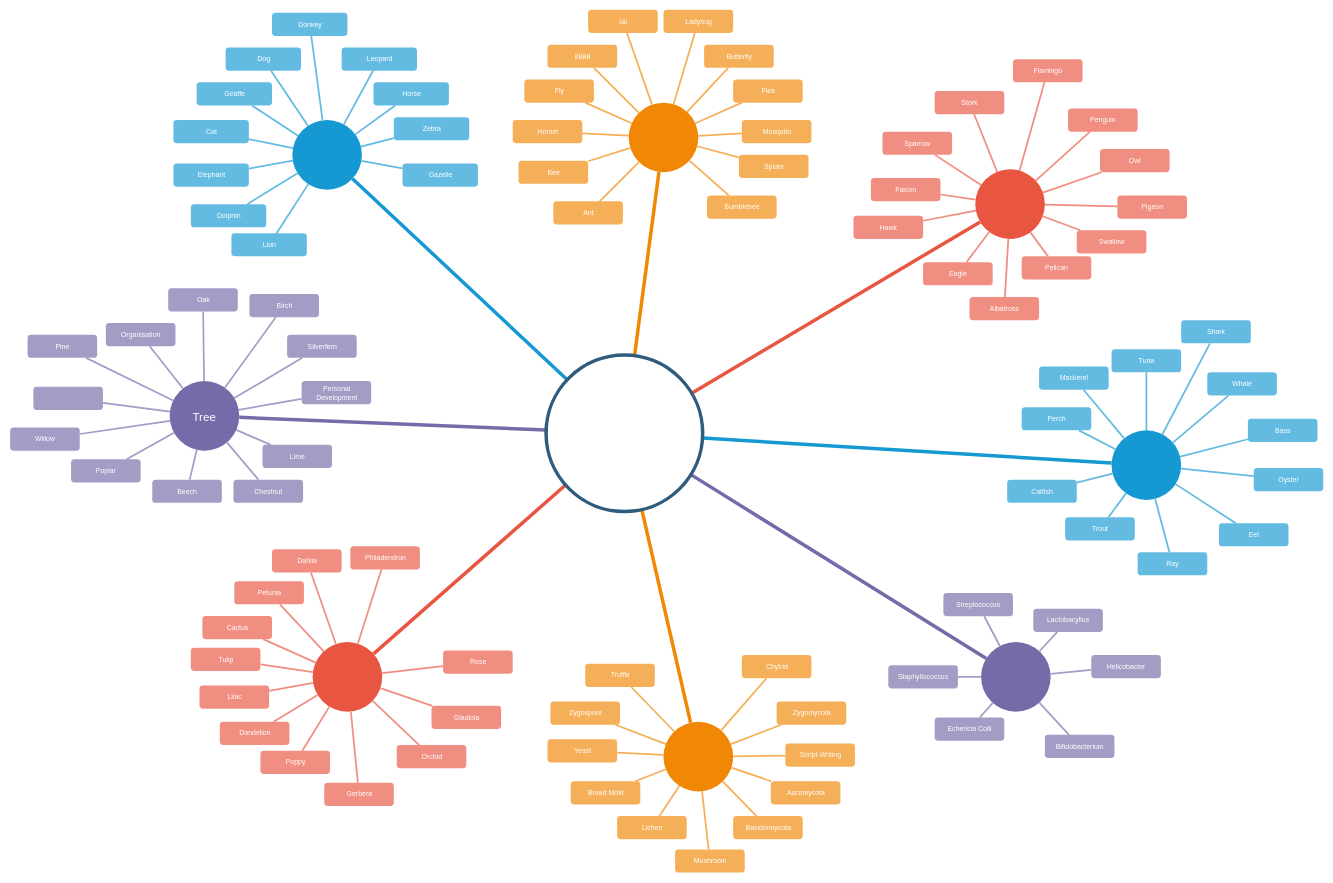
This 1333x883 diagram has some shape labels left out. The centre of each missing label's shape, as x and y in pixels:
"Acacia" goes at (68,398).
"Bacteria" goes at (1015,676).
"Bird" goes at (1010,204).
"Fish" goes at (1146,465).
"Flower" goes at (347,676).
"Fungi" goes at (698,756).
"Insect" goes at (663,137).
"LIVING BEINGS" goes at (624,433).
"Mammal" goes at (327,154).
